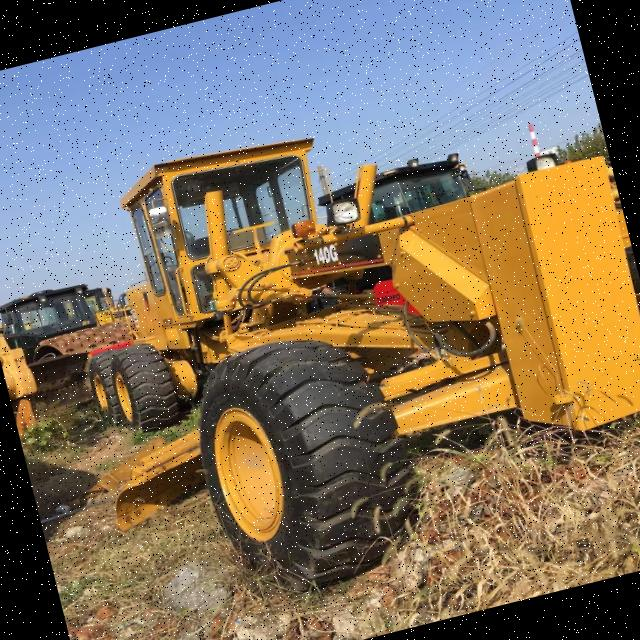Grader: (28, 46, 640, 640)
